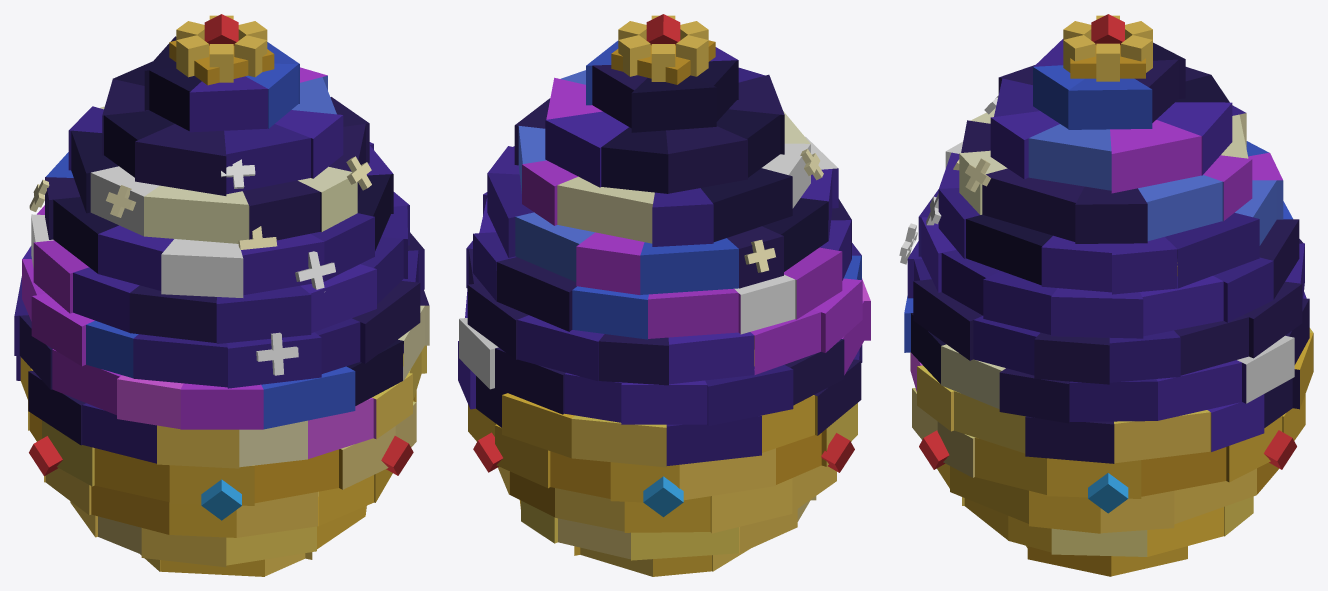
Rendered from titanic_egg.glb.
3 renders of one model, left to right at view 1: azimuth 30°, elevation 25°; view 2: azimuth 150°, elevation 25°; view 3: azimuth 270°, elevation 25°, orthographic.
Visible parts, largest first — view 1: titanic_egg; view 2: titanic_egg; view 3: titanic_egg.
Part boxes in pixels (x1=…): titanic_egg: x1=14, y1=14, x2=429, y2=576; titanic_egg: x1=458, y1=14, x2=870, y2=576; titanic_egg: x1=899, y1=14, x2=1313, y2=576.
Bounding box in the file's own units: 0.9068 × 1.21 × 0.8738.
